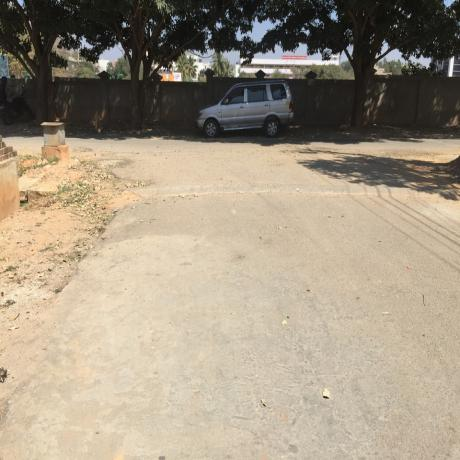Speed Bump: (111, 184, 416, 198)
